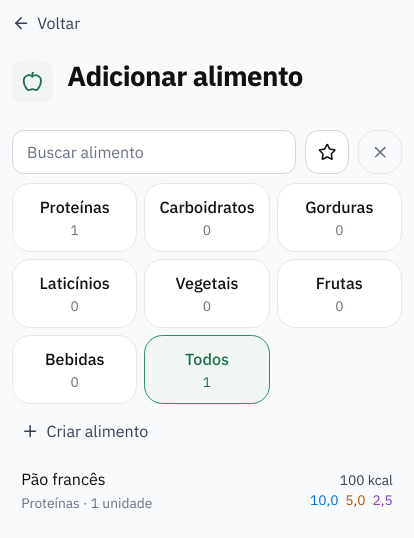
Test case: FoodSelectionScreen › picking a food opens the quantity step, prefilled with its reference portion
Type "pão" into the search field named "Buscar alimento para adicionar" at (154, 152), box [12, 130, 296, 174]
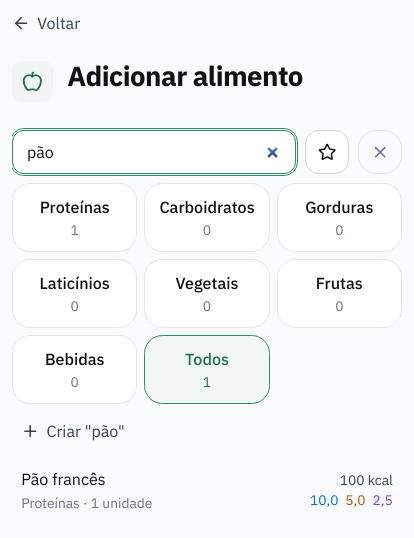
Click the button "Pão francês Proteínas · 1 unidade 100 kcal 10,0 5,0 2,5" at (63, 479), box [12, 459, 402, 521]
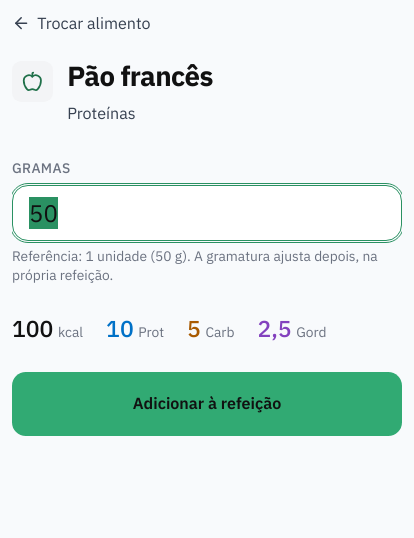
Now the heading "Pão francês" is shown, box [67, 59, 213, 93]
Now the field labelled "Gramas" holds "50", box [12, 184, 402, 240]
